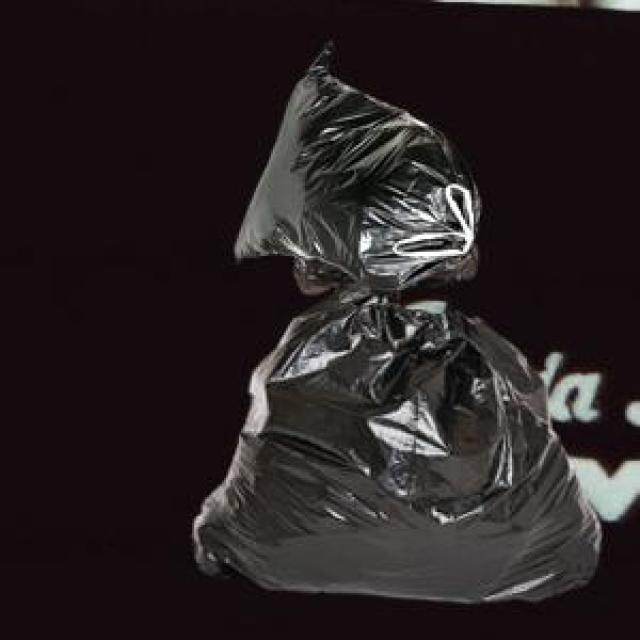Trashbag: (188, 274, 608, 608), (225, 42, 479, 288)
